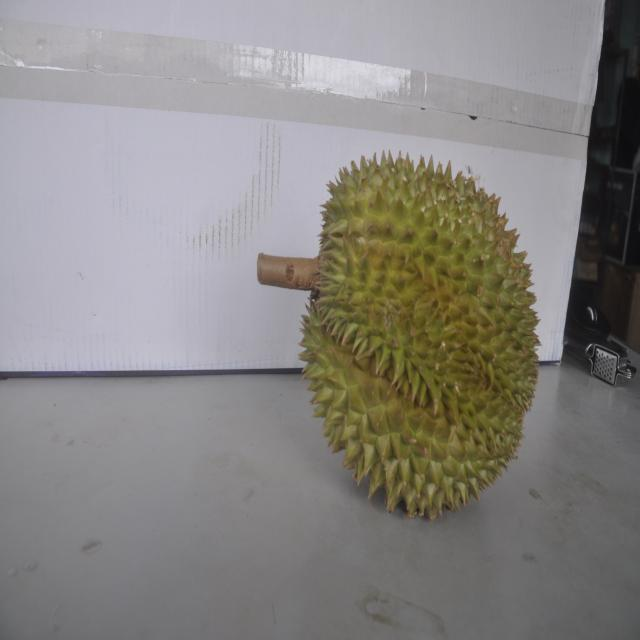mature: (307, 147, 541, 515)
